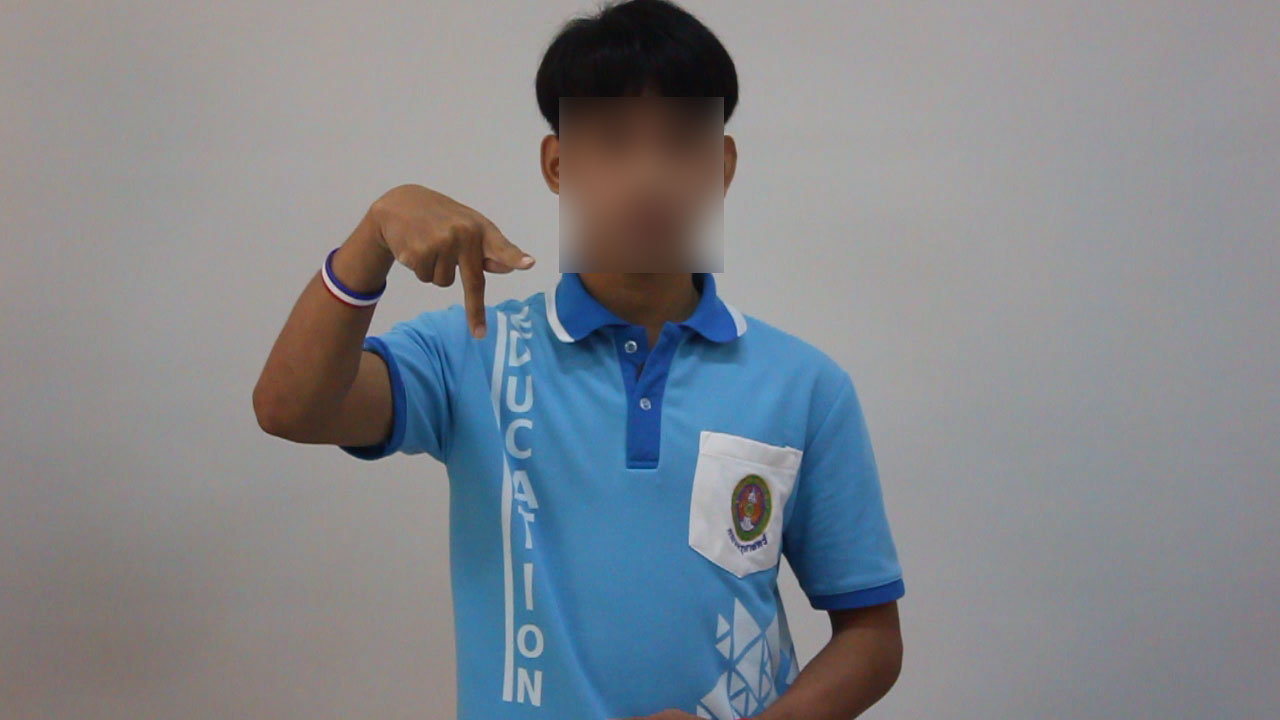por: (351, 148, 540, 346)
